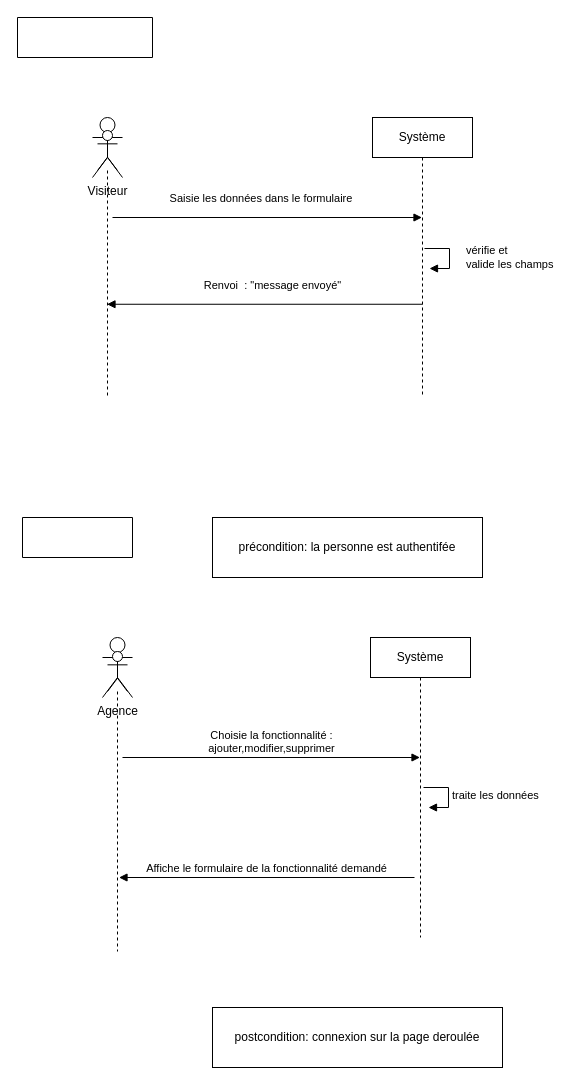
The diagram is 571 pixels wide and 1085 high, and some of its shapes have lost their labels. Here are the shapes that lost their labels. From the top down, the centre of each, then its label:
At pixel 84 37: "Laisser un message".
At pixel 77 537: "Gérer les clients".
